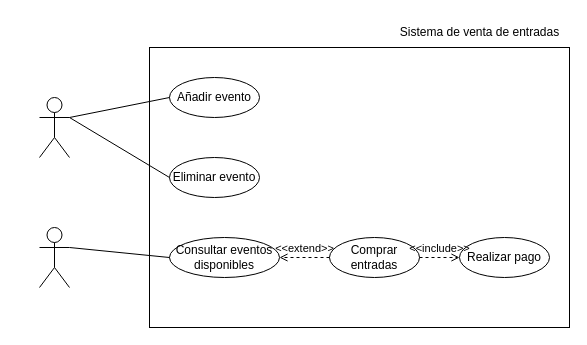
This 587x345 diagram has some shape labels left out. Each missing label, with the centre of its shape:
Administrador: point (54, 127)
Cliente: point (54, 257)
